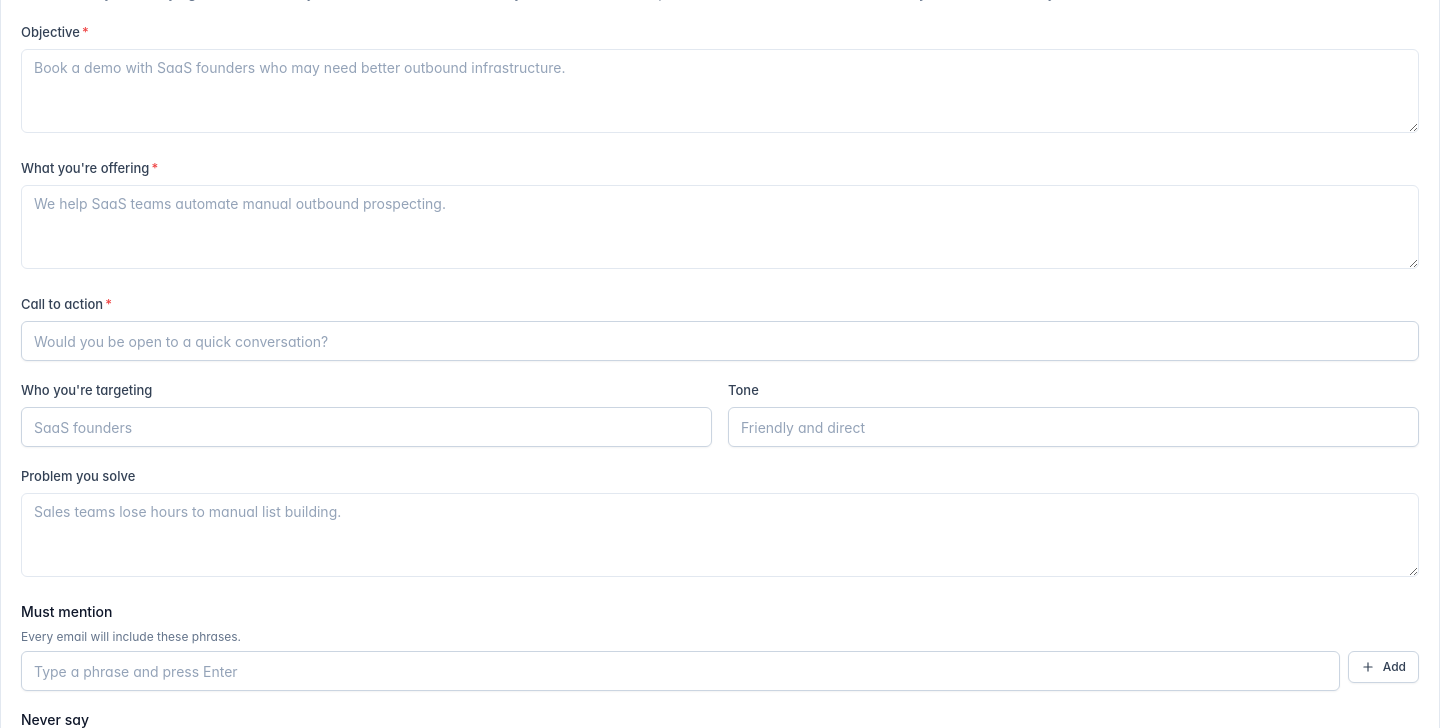
Test case: ObjectiveForm › shows what is missing and does not save an incomplete objective
The width and height of the screenshot is (1440, 728).
In the text box labelled "Objective*": (720, 91) left=21, top=49, right=1419, bottom=133, type "Book demos"
(page scrolled)
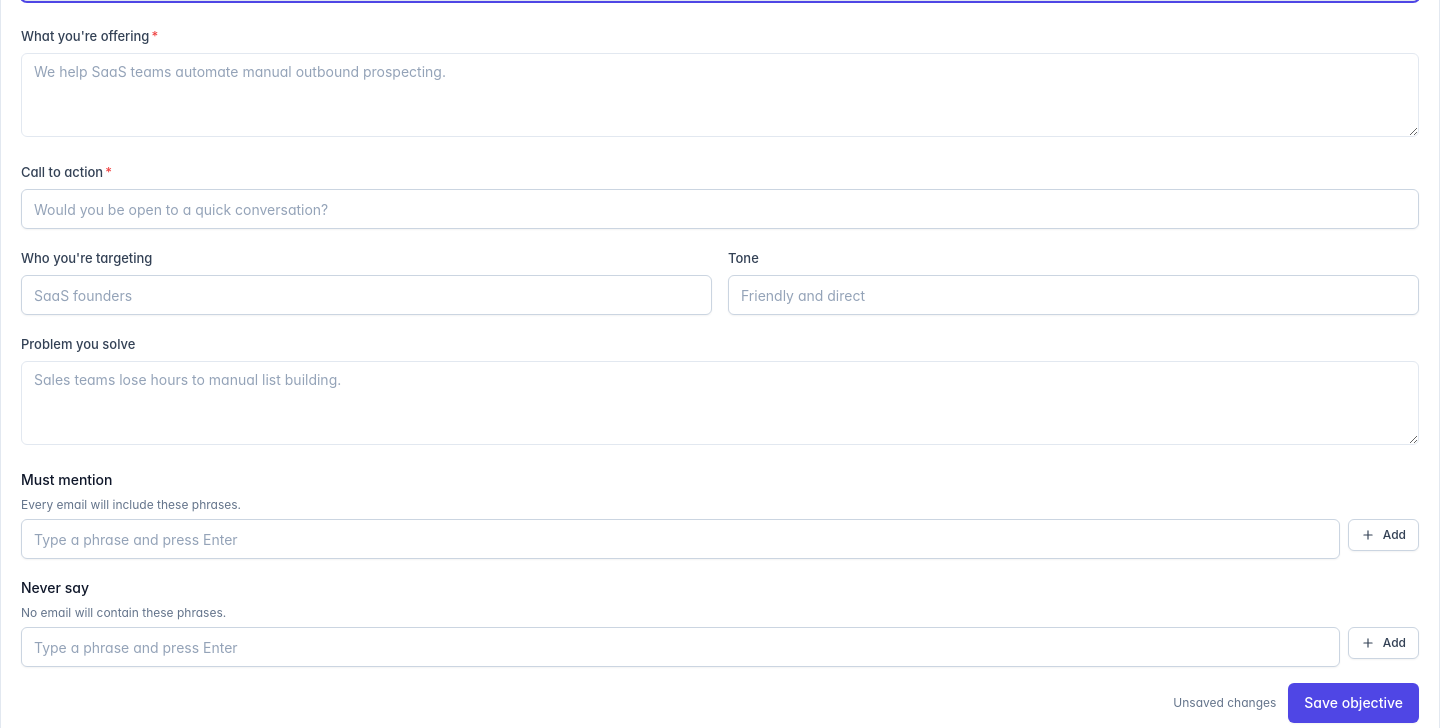
Click the button "Save objective": (1354, 703) left=1288, top=683, right=1419, bottom=723
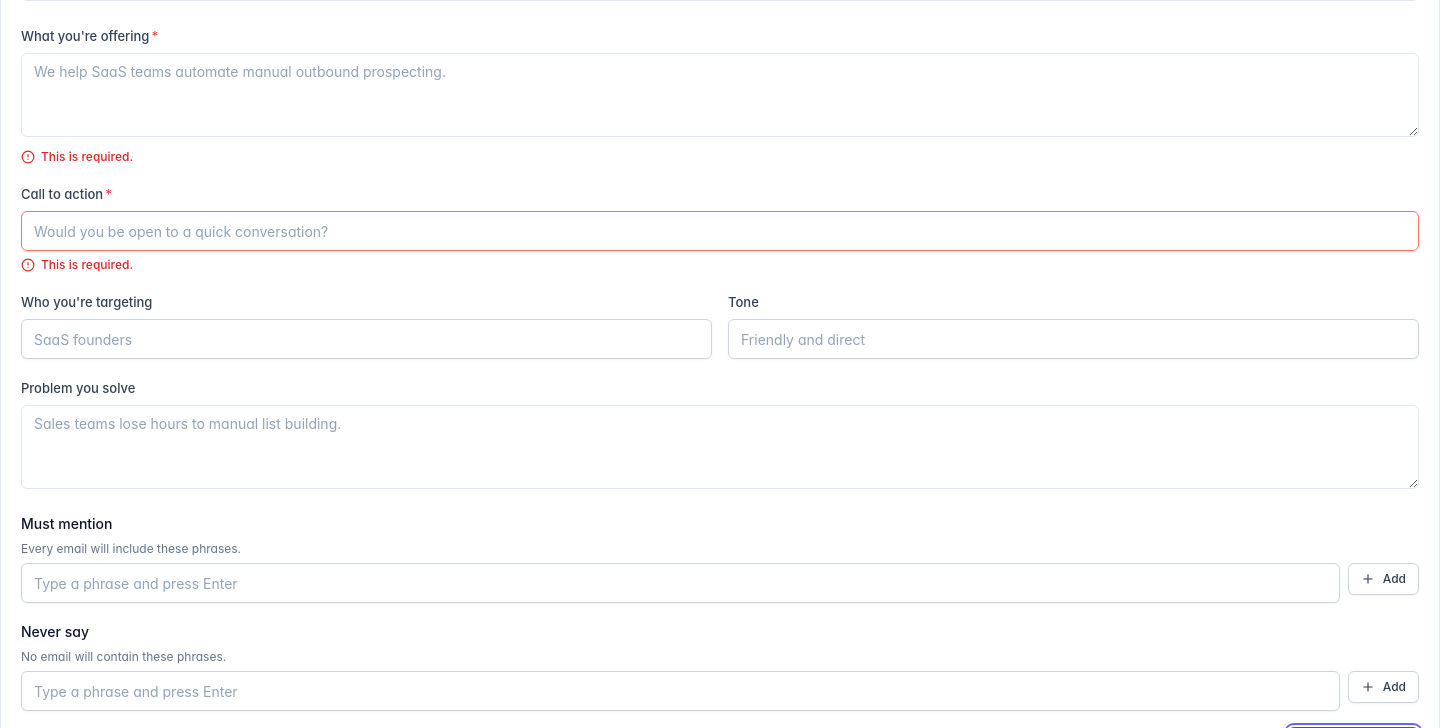
Expected: the text "This is required." is shown 2 times, left=21, top=149, right=133, bottom=164; left=21, top=257, right=133, bottom=272
